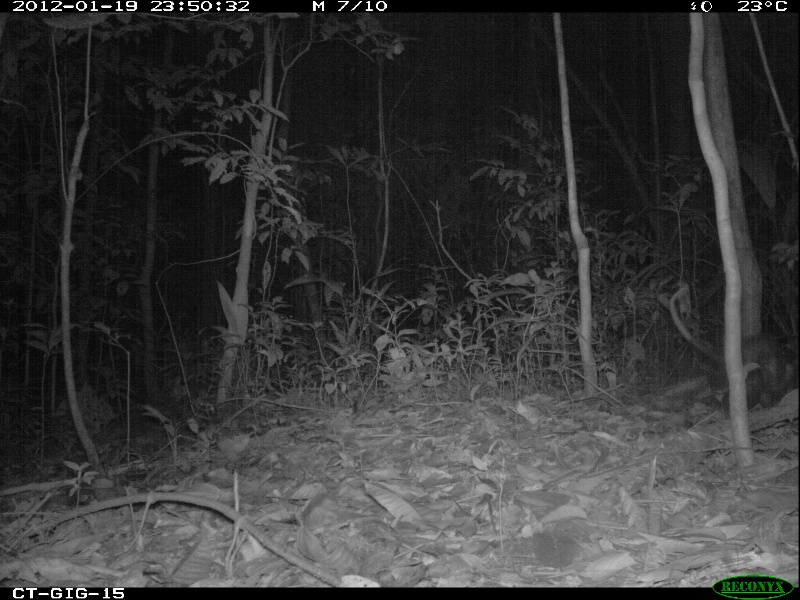opossum: (665, 280, 800, 434)
